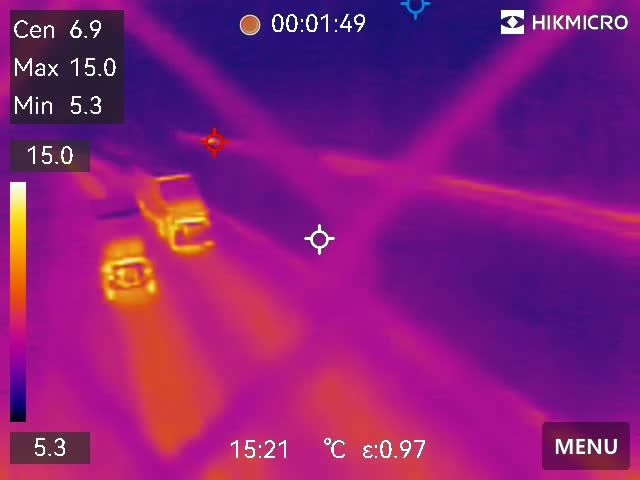heavyTruck: (127, 154, 216, 258)
